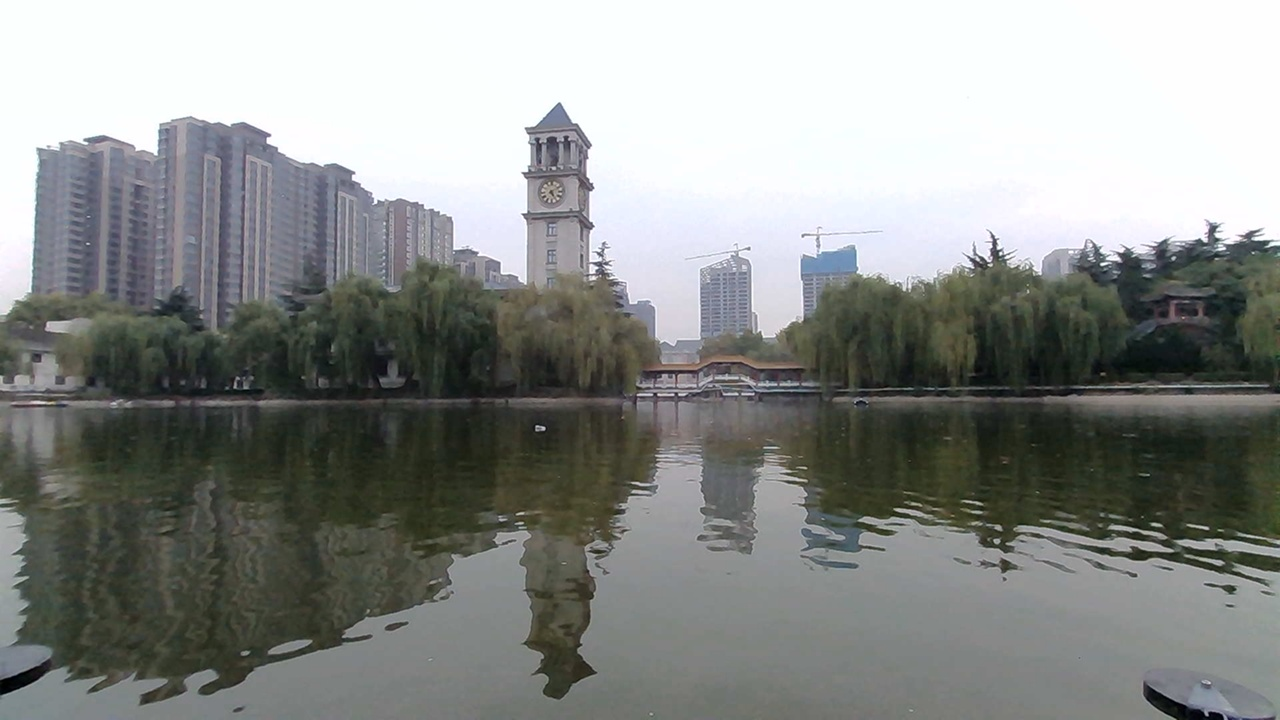bottle: (528, 419, 556, 441)
